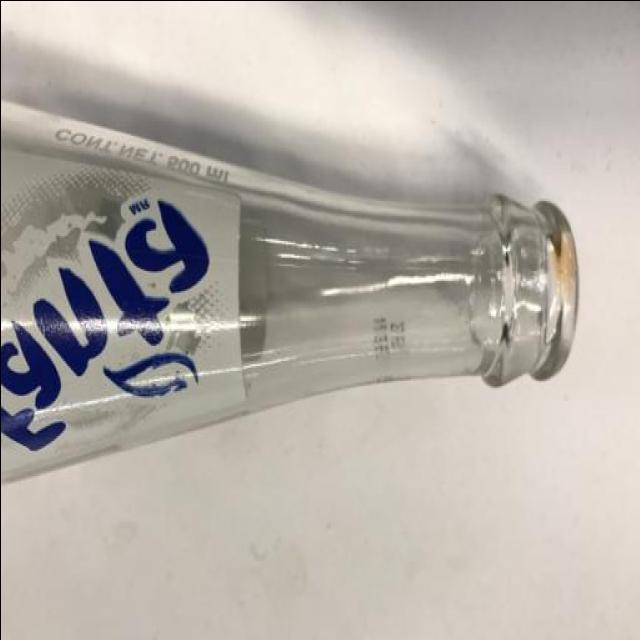glass: (0, 100, 578, 488)
